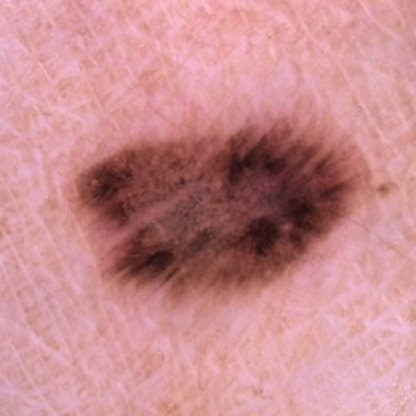benign: (78, 137, 334, 284)
